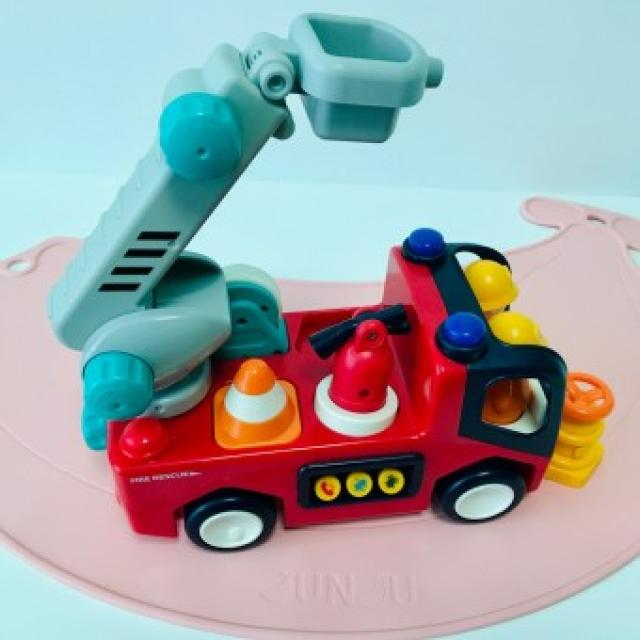Dry: (40, 8, 612, 564)
